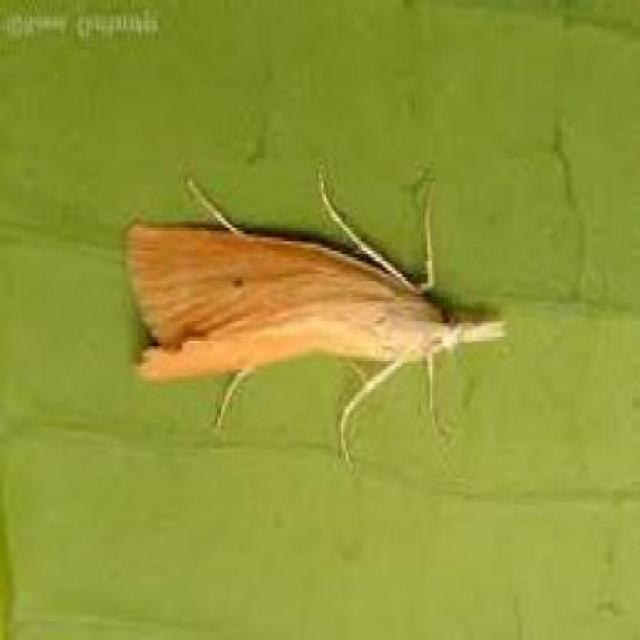stem-borer: (114, 172, 512, 473)
